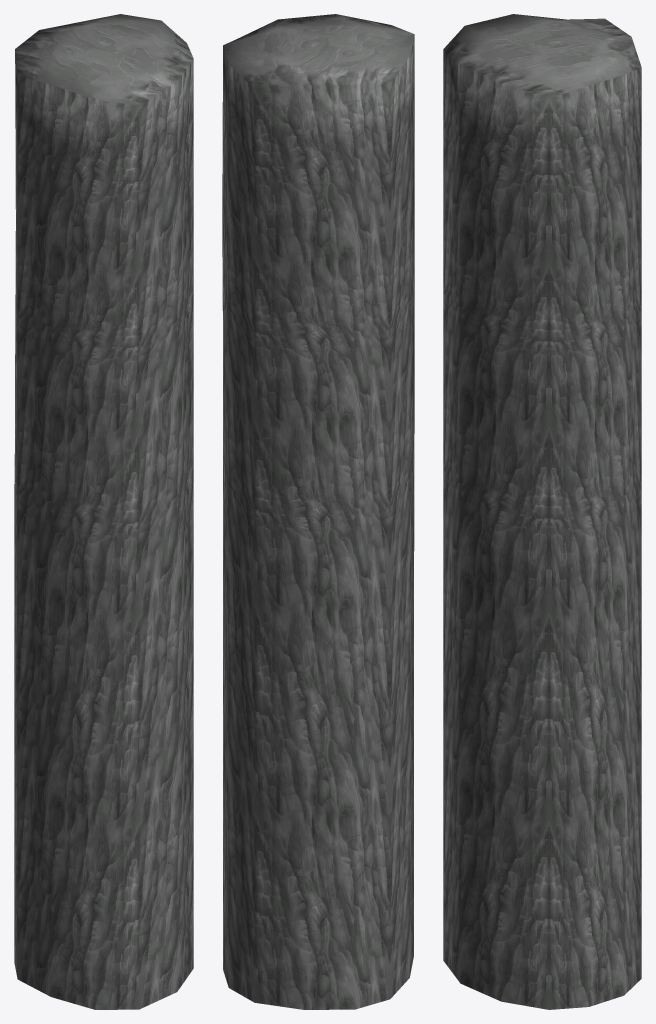
File: SWORDLIGHT20_PS-AREA01 PLATFORM03.fbx
3 views of the same model, side by side, from view 1: azimuth 30°, elevation 25°; view 2: azimuth 150°, elevation 25°; view 3: azimuth 270°, elevation 25° (orthographic).
Parts seen in each view (by area): view 1: SWORDLIGHT20_PS-AREA01 PLATFORM03; view 2: SWORDLIGHT20_PS-AREA01 PLATFORM03; view 3: SWORDLIGHT20_PS-AREA01 PLATFORM03.
Boxes of the visible parts, bbox=[...] form: SWORDLIGHT20_PS-AREA01 PLATFORM03: bbox=[14, 14, 193, 1009]; SWORDLIGHT20_PS-AREA01 PLATFORM03: bbox=[222, 14, 414, 1009]; SWORDLIGHT20_PS-AREA01 PLATFORM03: bbox=[443, 14, 641, 1009].
Bounding box in the file's own units: 39983 × 219239 × 42418.
2 materials, 2 textured.
